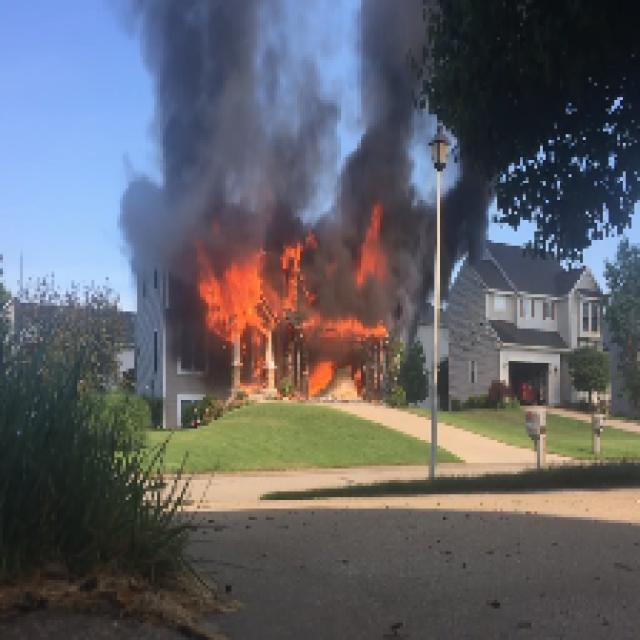fire: (204, 252, 388, 345)
smoke: (136, 0, 426, 221)
